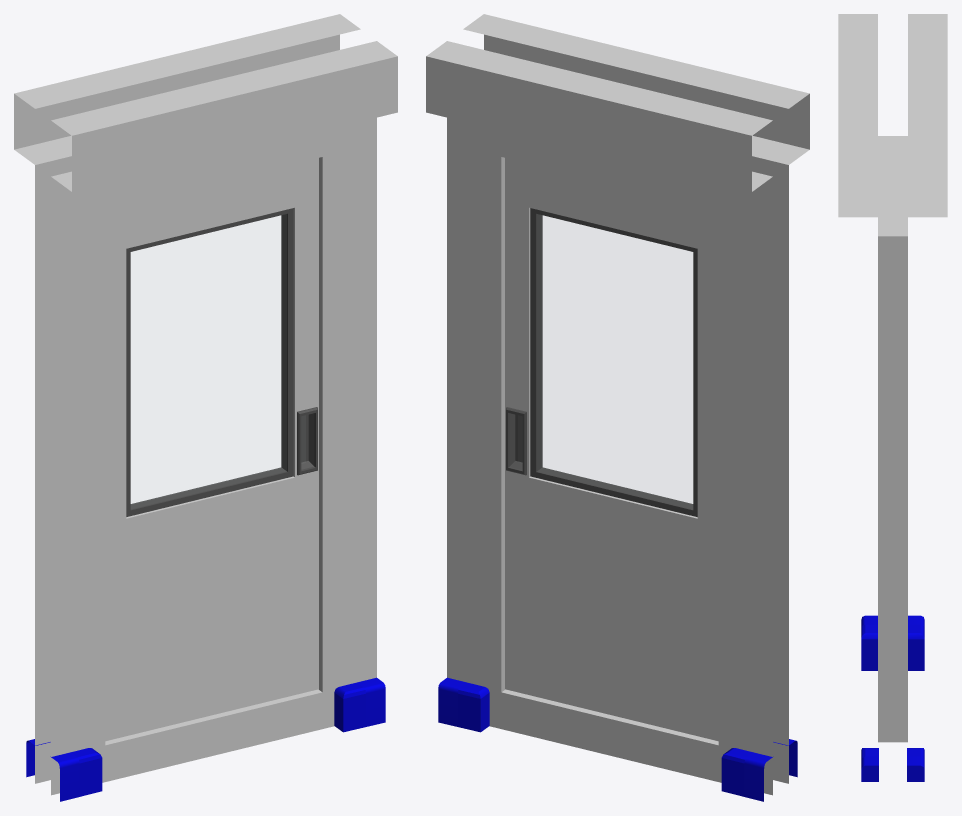
Rendered from SecuirtyWallDoor.fbx.
3 views of the same model, side by side, from view 1: azimuth 30°, elevation 25°; view 2: azimuth 150°, elevation 25°; view 3: azimuth 270°, elevation 25° (orthographic). The views are drawn at different scales.
Parts seen in each view (by area): view 1: Wall, Door, Glass, WindowFrame, Trim; view 2: Wall, Door, Glass, WindowFrame, Trim; view 3: Wall, Trim.
Part boxes in pixels (x1,y1,x2,y2): Wall: [14, 14, 397, 795]; Door: [105, 158, 318, 741]; Glass: [131, 216, 281, 504]; WindowFrame: [126, 208, 293, 516]; Trim: [26, 677, 385, 801]; Wall: [426, 14, 809, 795]; Door: [505, 158, 718, 741]; Glass: [542, 216, 692, 504]; WindowFrame: [530, 208, 697, 516]; Trim: [438, 677, 797, 801]; Wall: [838, 14, 947, 742]; Trim: [861, 615, 924, 781].
Size of the model in its own units: 6 by 11.87 by 1.84.
